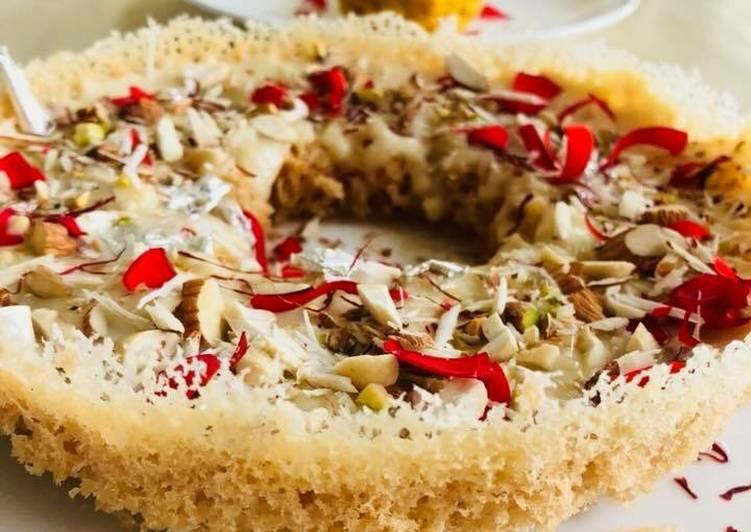Ghevar: (1, 7, 751, 532)
